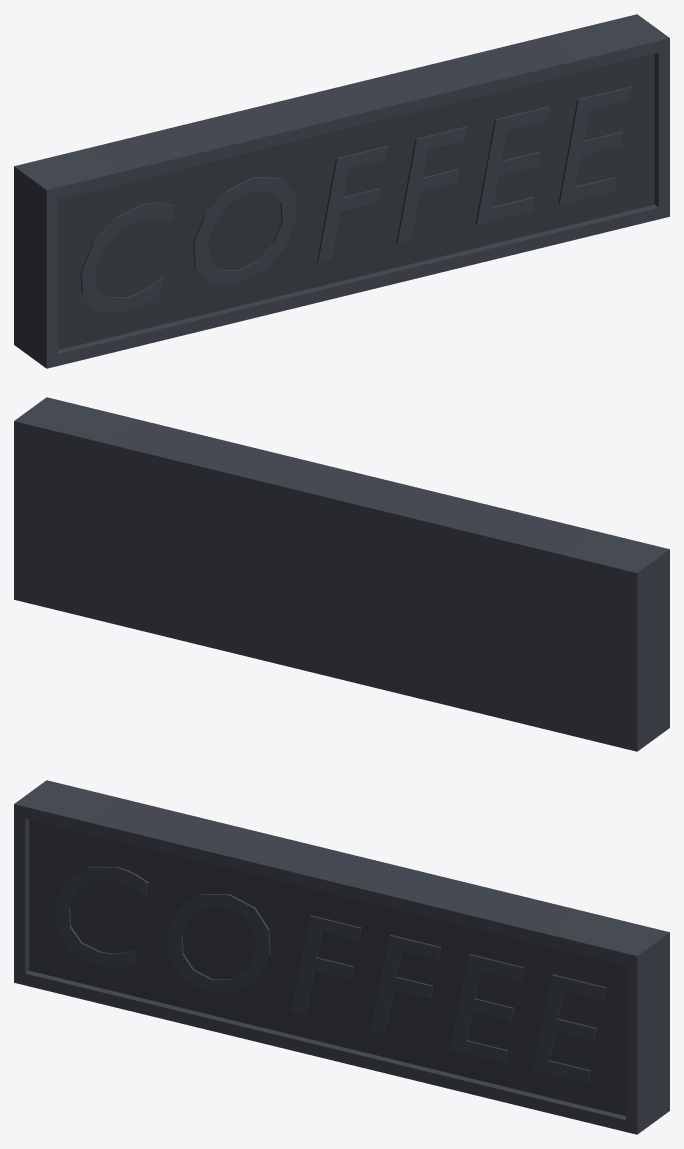
The model's file is Banner_12.fbx.
3 views of the same model, one above another, from view 1: azimuth 30°, elevation 25°; view 2: azimuth 150°, elevation 25°; view 3: azimuth 330°, elevation 25° (orthographic).
Parts seen in each view (by area): view 1: Banner_12; view 2: Banner_12; view 3: Banner_12.
Boxes of the visible parts, bbox=[...] form: Banner_12: bbox=[14, 14, 669, 368]; Banner_12: bbox=[14, 397, 669, 751]; Banner_12: bbox=[14, 780, 669, 1134].
Size of the model in its own units: 3.08 by 0.8434 by 0.2801.
